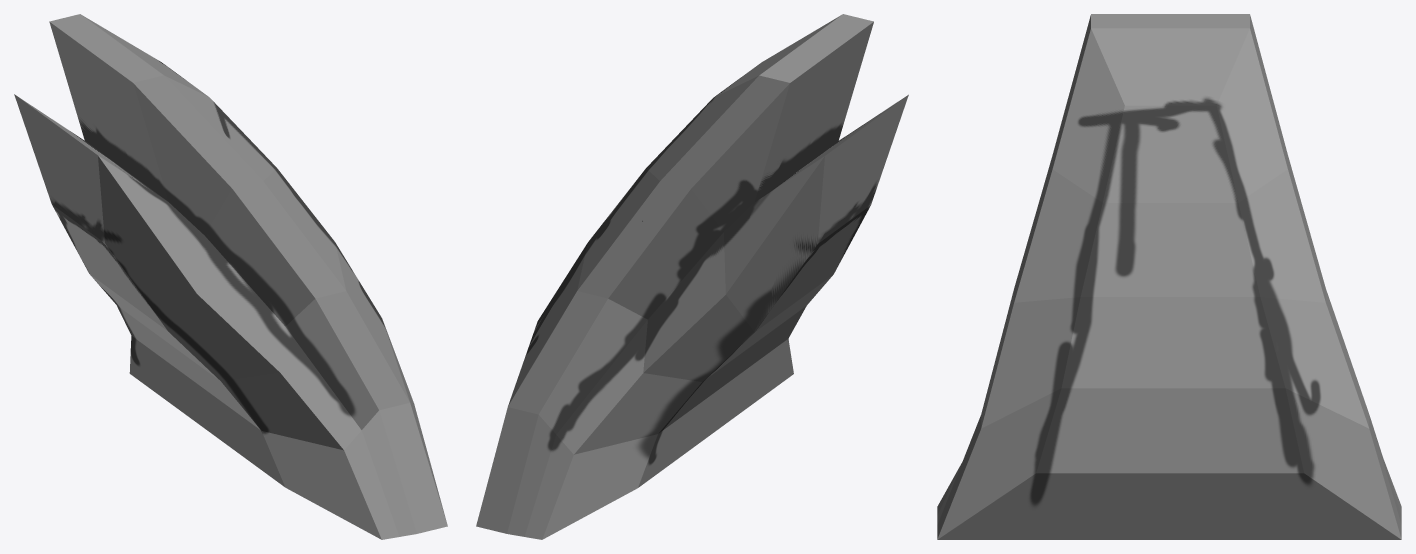
Rendered from volcano rock3.obj.
3 renders of one model, left to right at view 1: azimuth 30°, elevation 25°; view 2: azimuth 150°, elevation 25°; view 3: azimuth 270°, elevation 25°, orthographic. The views are drawn at different scales.
Visible parts, largest first — view 1: Cube; view 2: Cube; view 3: Cube.
Boxes of the visible parts, x1,y1,x2,y2 form: Cube: (14, 14, 447, 539); Cube: (476, 14, 908, 539); Cube: (937, 14, 1401, 539).
Bounding box in the file's own units: 6.12 × 8.98 × 9.05.
